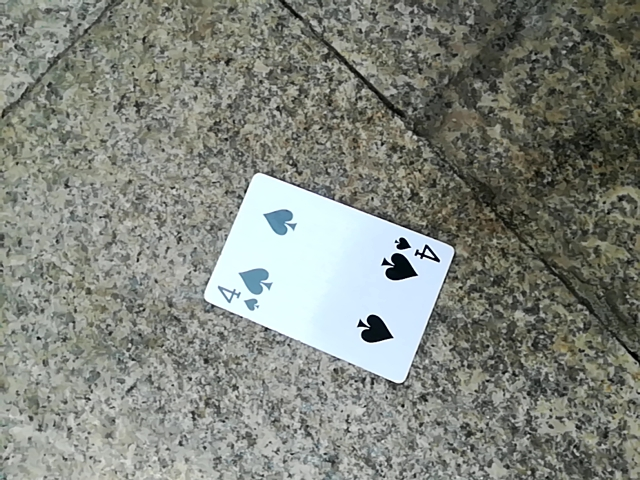ht 4: (203, 169, 455, 389)
